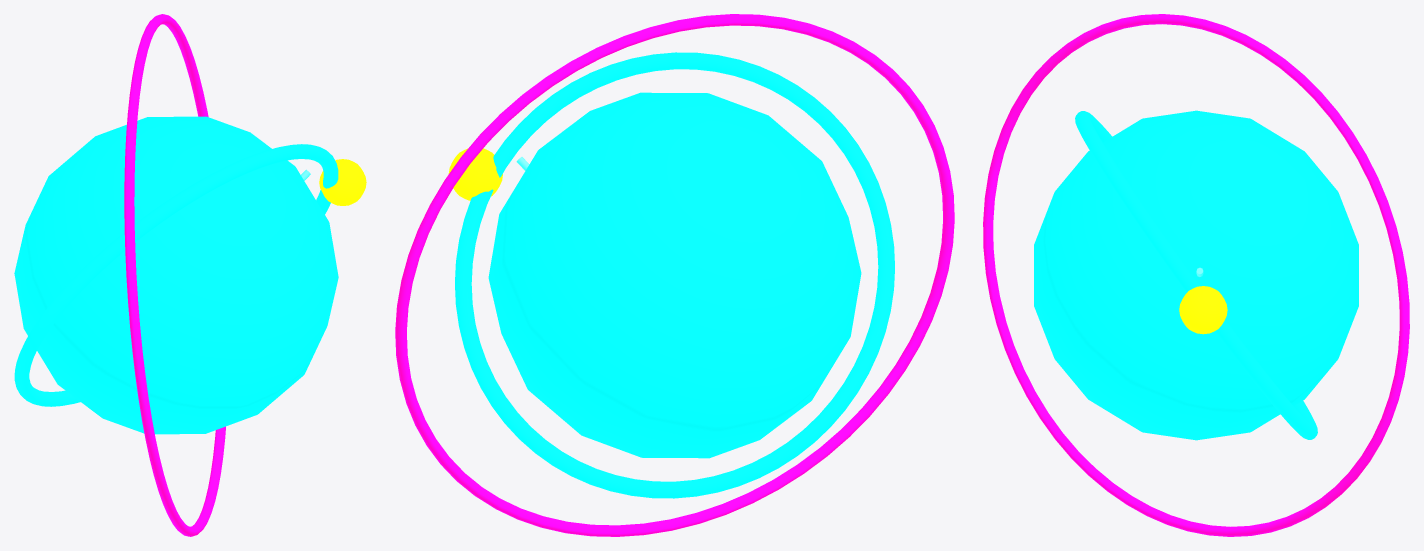
Rendered from contact-orb.glb.
3 views of the same model, side by side, from view 1: azimuth 30°, elevation 25°; view 2: azimuth 150°, elevation 25°; view 3: azimuth 270°, elevation 25° (orthographic). The views are drawn at different scales.
Parts seen in each view (by area): view 1: ContactOrbAsset; view 2: ContactOrbAsset; view 3: ContactOrbAsset.
Part boxes in pixels (x1,y1,x2,y2): ContactOrbAsset: [14, 14, 366, 536]; ContactOrbAsset: [395, 14, 954, 536]; ContactOrbAsset: [983, 14, 1409, 536].
Size of the model in its own units: 1.22 by 1.54 by 1.23.
